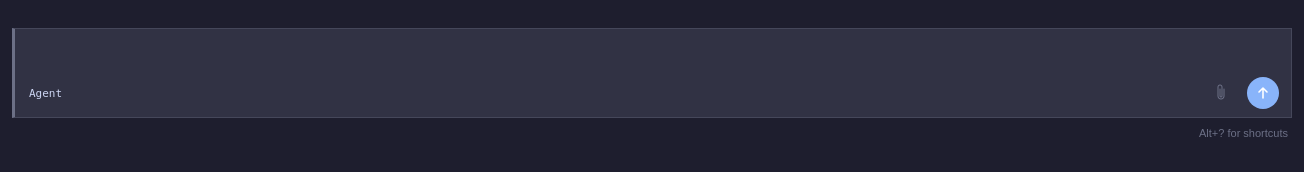
Test: Composer input › updates slash and bash state without CustomEvents
In the text box: (653, 51) x1=15 y1=29 x2=1291 y2=73, type "/he"
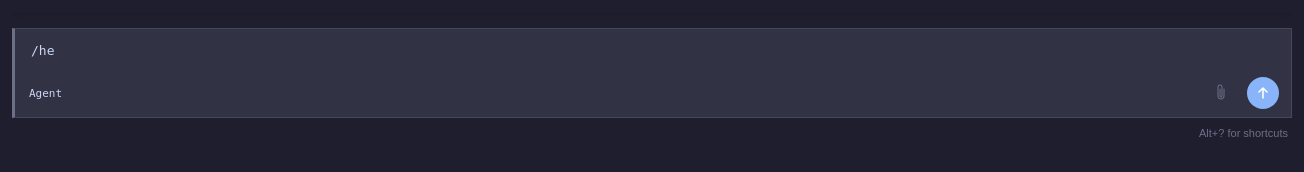
Replace the text in the text box with "!ls": (653, 51) x1=15 y1=29 x2=1291 y2=73
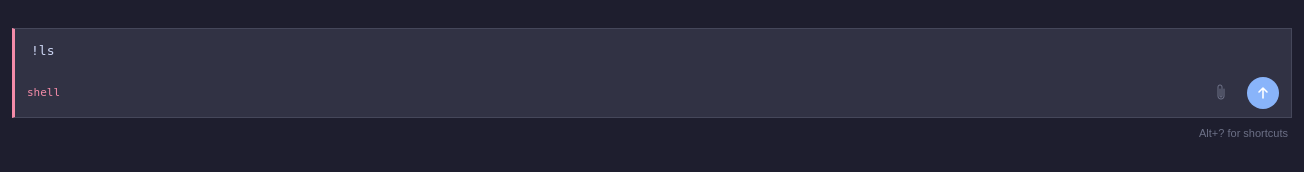
Expected: the text "shell" is shown, x1=27 y1=85 x2=60 y2=101
